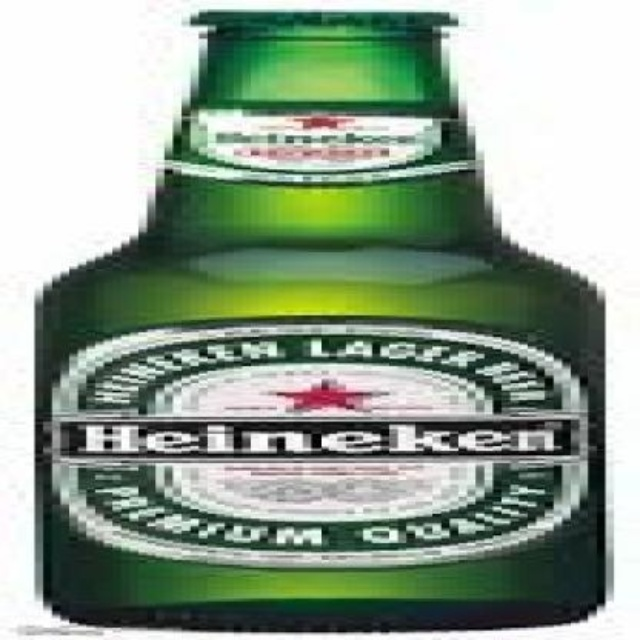trash: (35, 11, 606, 628)
